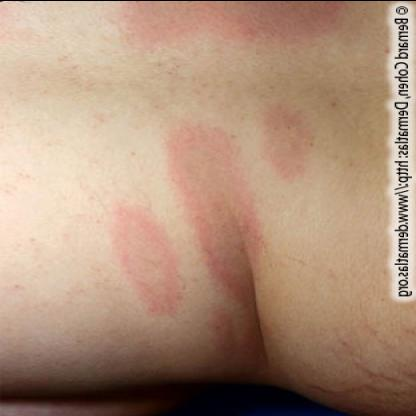Tick: (100, 123, 262, 355), (116, 1, 357, 56), (263, 97, 317, 180)
